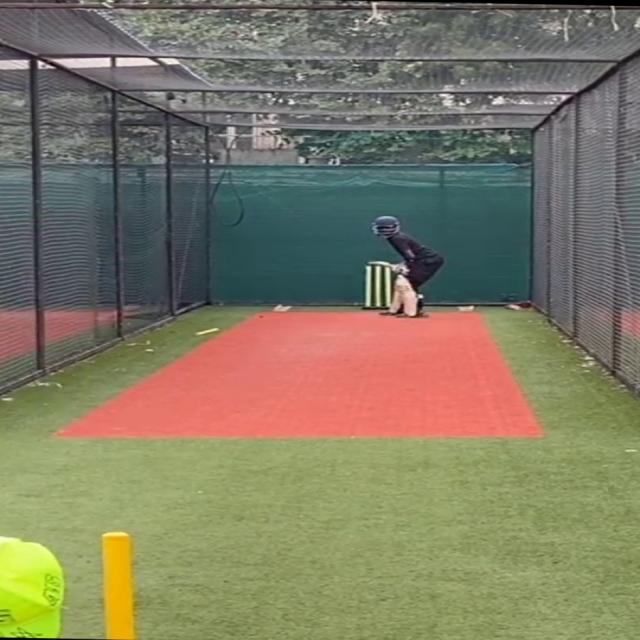stump: (362, 264, 392, 309)
